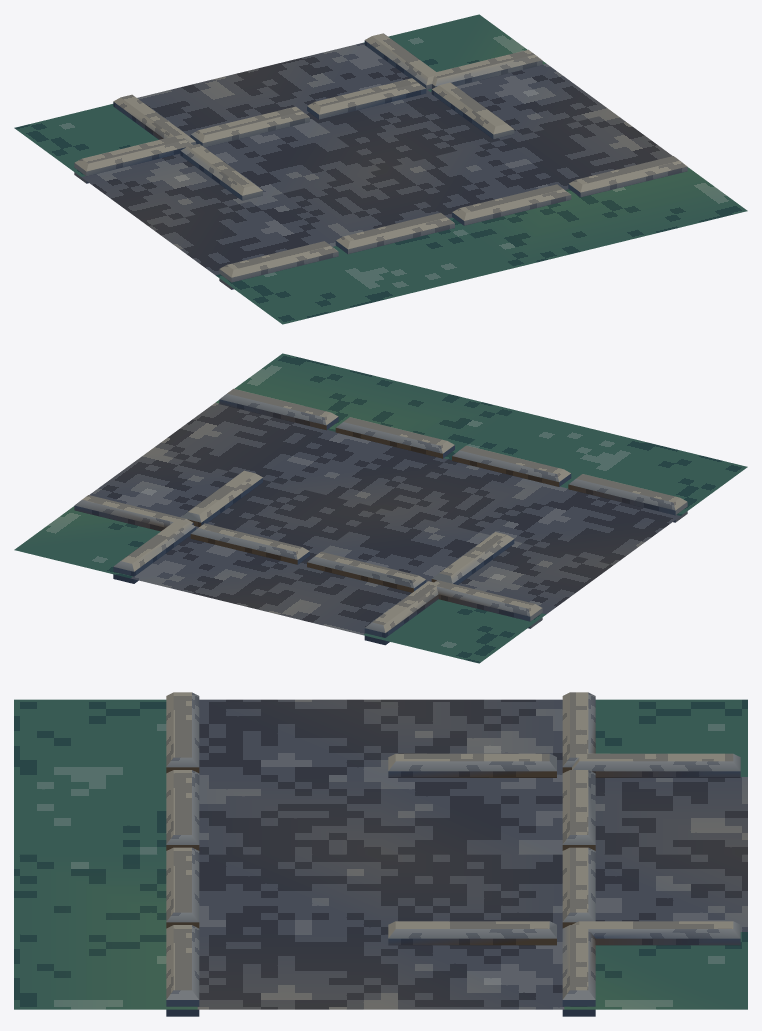
Rendered from mter.ground__path_tee.glb.
The picture shows the model from 3 angles, top to bottom: view 1: azimuth 30°, elevation 25°; view 2: azimuth 150°, elevation 25°; view 3: azimuth 270°, elevation 25°; orthographic projection. The views are drawn at different scales.
Visible parts, largest first — view 1: kit_shell_ground, kit_kerbs; view 2: kit_shell_ground, kit_kerbs; view 3: kit_shell_ground, kit_kerbs.
Part boxes in pixels (left/top/right/bottom): kit_shell_ground: left=14, top=14, right=747, bottom=324; kit_kerbs: left=74, top=33, right=687, bottom=289; kit_shell_ground: left=14, top=353, right=747, bottom=663; kit_kerbs: left=74, top=388, right=687, bottom=645; kit_shell_ground: left=14, top=699, right=747, bottom=1009; kit_kerbs: left=166, top=692, right=740, bottom=1016.
Size of the model in its own units: 4 by 0.14 by 4.
Materials: 3 (3 with a texture image).
